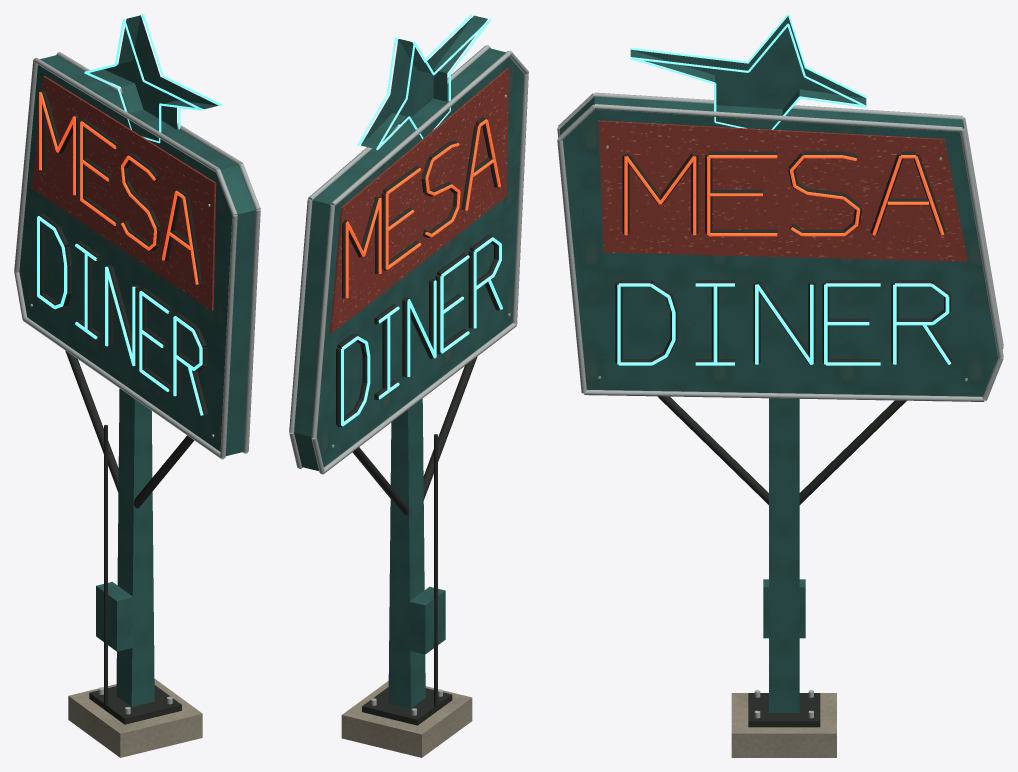
Rendered from SM_Mesa_Sign.glb.
3 renders of one model, left to right at view 1: azimuth 30°, elevation 25°; view 2: azimuth 150°, elevation 25°; view 3: azimuth 270°, elevation 25°, orthographic. The views are drawn at different scales.
Parts seen in each view (by area): view 1: SM_Mesa_Sign; view 2: SM_Mesa_Sign; view 3: SM_Mesa_Sign.
Part boxes in pixels (left/top/right/bottom): SM_Mesa_Sign: left=14, top=14, right=260, bottom=757; SM_Mesa_Sign: left=289, top=14, right=528, bottom=757; SM_Mesa_Sign: left=557, top=14, right=1003, bottom=757.
Bounding box in the file's own units: 0.75 × 6.19 × 3.48.
7 materials, 3 textured.
